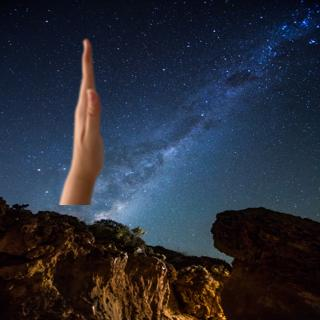Right: (61, 34, 114, 201)
